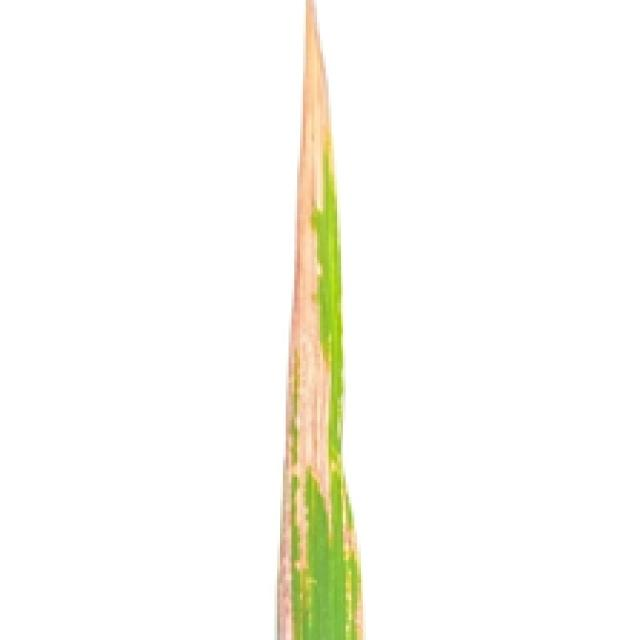Rice___Bacterial_Leaf_Blight: (273, 0, 364, 637)
